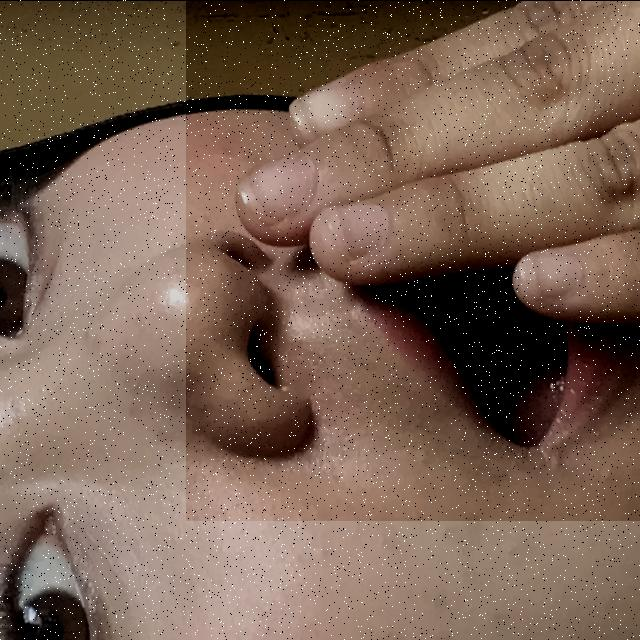ngantuk: (186, 0, 640, 520)
